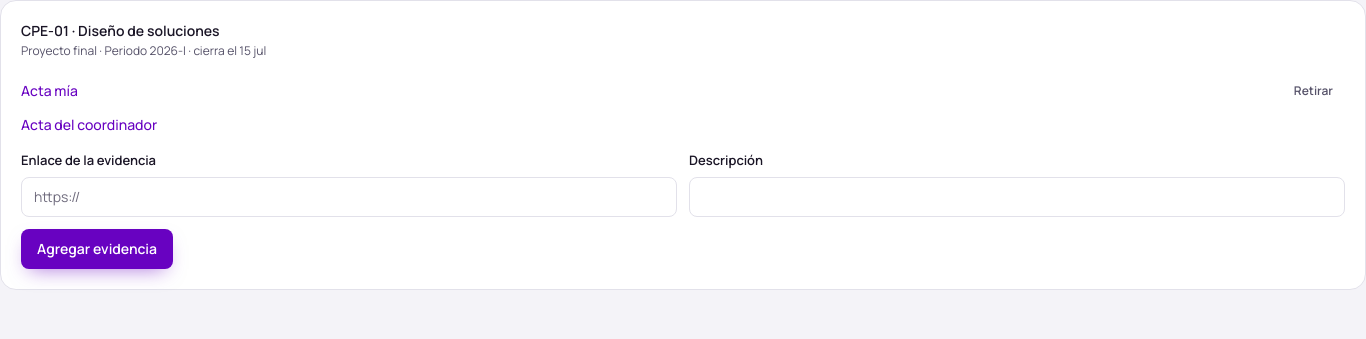
Test case: TarjetaEvaluacion — foco y confirmación › un retiro fallido devuelve el foco al botón «Retirar»
The width and height of the screenshot is (1366, 339).
Click the button with aria-label "Retirar Acta mía": (1313, 91) [1282,75,1345,107]
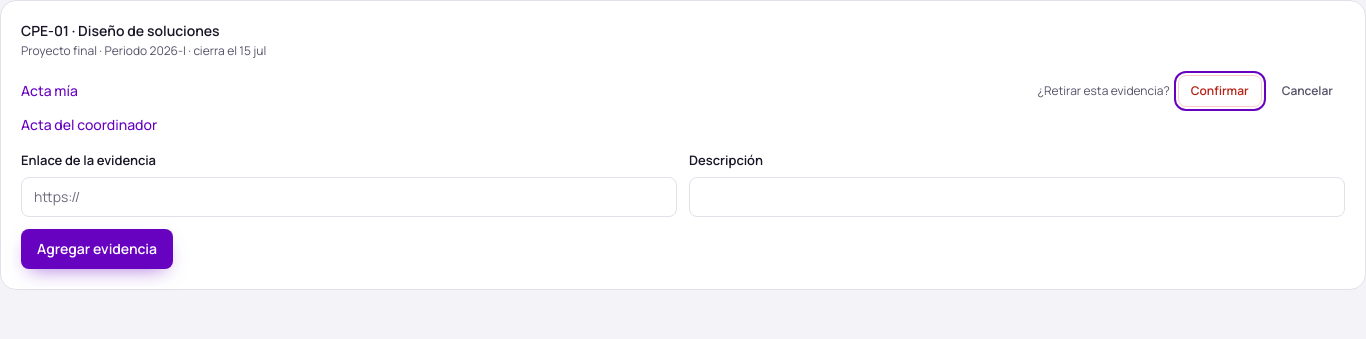
Click the button "Confirmar": (1220, 91) [1178,75,1262,107]
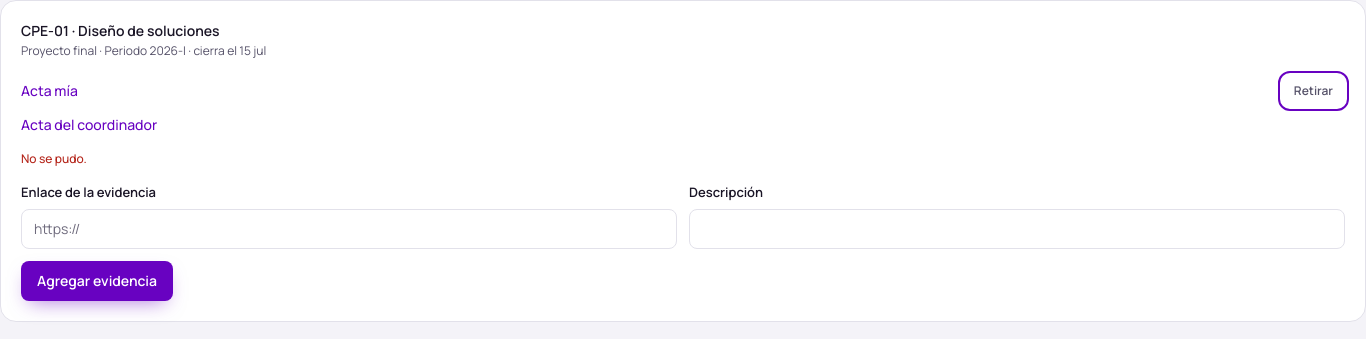
Result: the message "No se pudo." is shown at [21,150,87,167]
